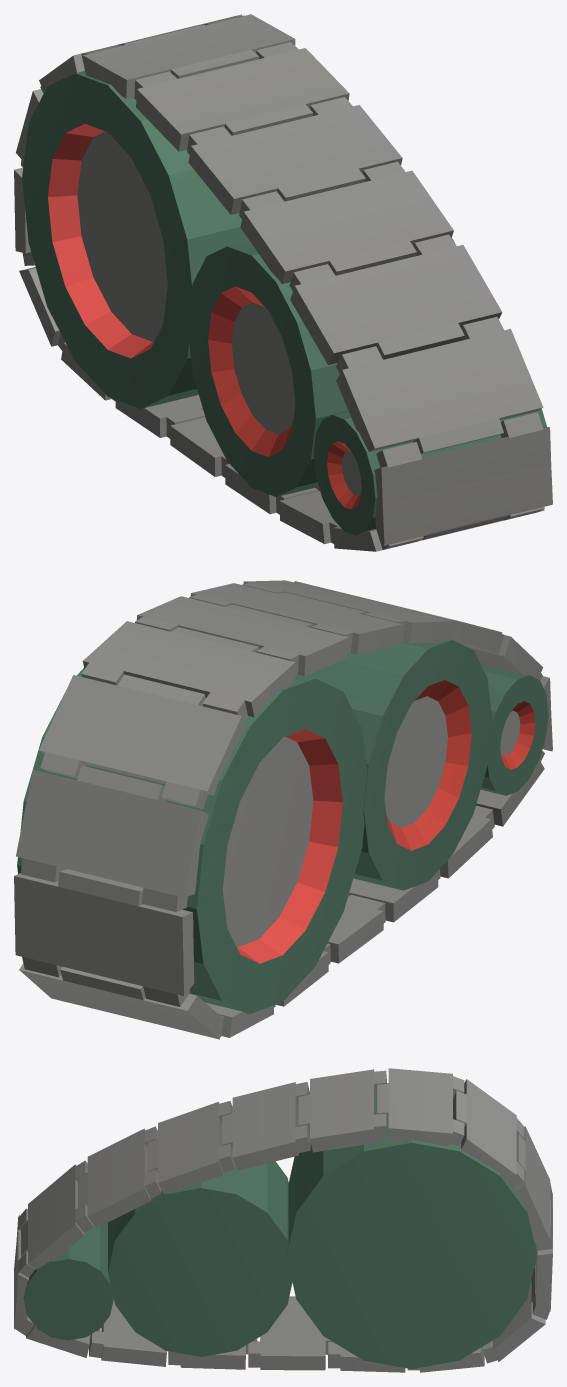
The model's file is Spare_tank_track.fbx.
3 renders of one model, top to bottom at view 1: azimuth 30°, elevation 25°; view 2: azimuth 150°, elevation 25°; view 3: azimuth 270°, elevation 25°, orthographic. The views are drawn at different scales.
Visible parts, largest first — view 1: Spare_tank_track; view 2: Spare_tank_track; view 3: Spare_tank_track.
Part boxes in pixels (x1,y1,x2,y2): Spare_tank_track: (14,14,552,551); Spare_tank_track: (14,580,552,1039); Spare_tank_track: (14,1068,552,1372).
Size of the model in its own units: 105 by 188 by 375.
